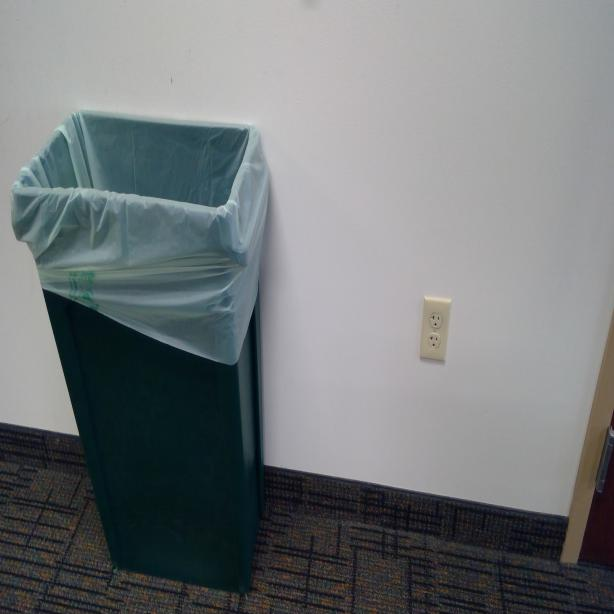typeb: (430, 309, 443, 330), (428, 334, 442, 350)
